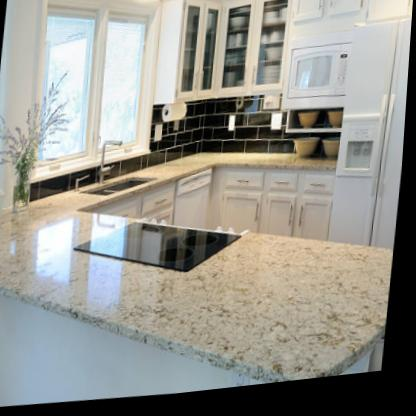Cabinet: (104, 171, 338, 248), (177, 0, 291, 106)
Window: (35, 0, 160, 178)
